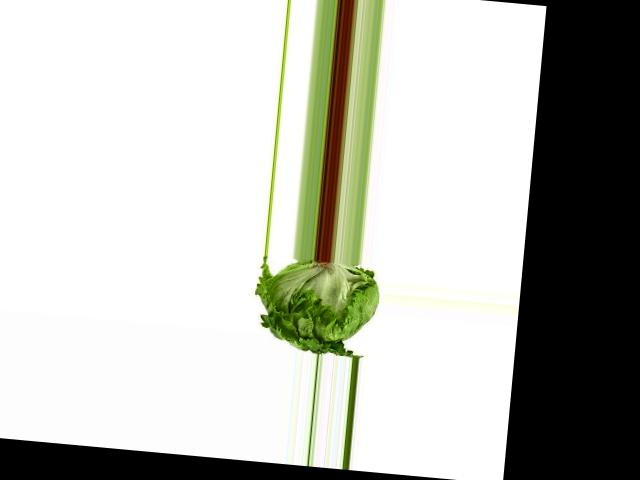lettuce: (246, 254, 385, 358)
